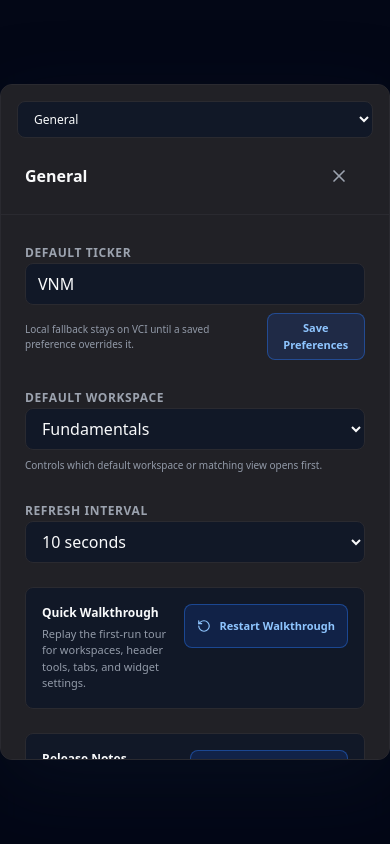
it: SettingsModal section navigation › lets mobile users select a section and displays its content
Expected: the heading "General" is shown, [25,164,88,189]
Select "Appearance" in the dropdown named "Settings section" at [195, 120], box [17,101,373,138]
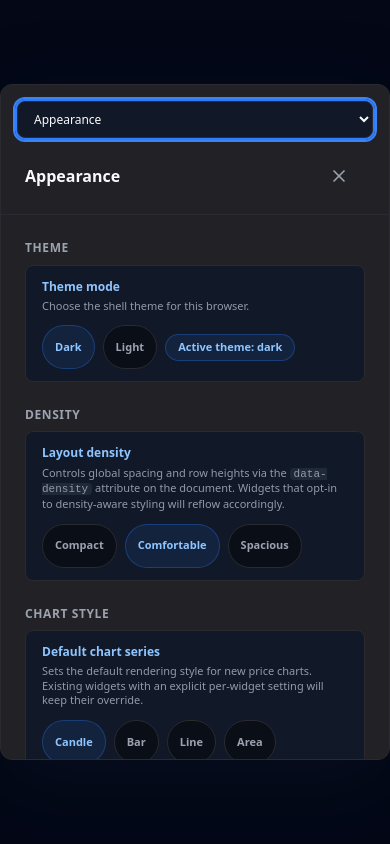
Now the heading "Appearance" is shown, box [25,164,120,189]
Now the text "Choose the shell theme for this browser." is shown, box [42,298,249,313]
